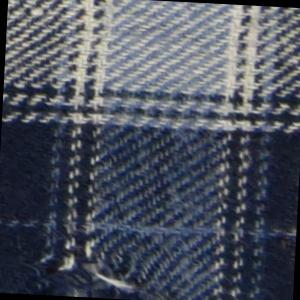Damage: (15, 233, 188, 300)
